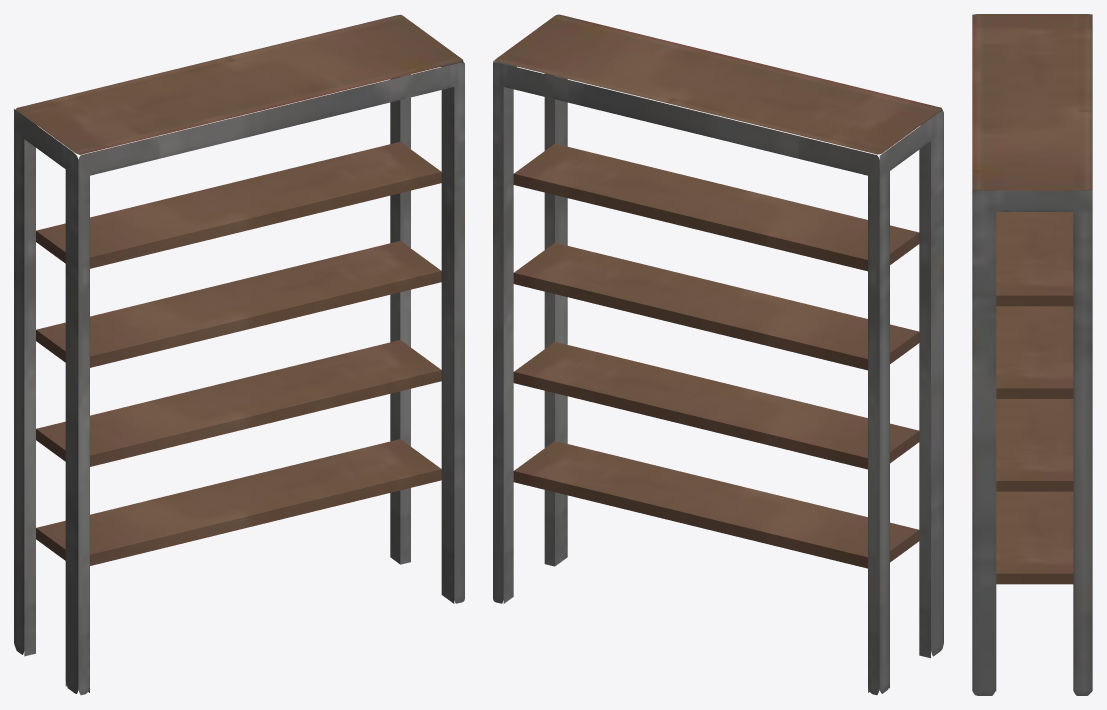
Rendered from open-shelving--2.gltf.
3 views of the same model, side by side, from view 1: azimuth 30°, elevation 25°; view 2: azimuth 150°, elevation 25°; view 3: azimuth 270°, elevation 25° (orthographic). The views are drawn at different scales.
Parts seen in each view (by area): view 1: Open_cabinet_medium1; view 2: Open_cabinet_medium1; view 3: Open_cabinet_medium1.
Part boxes in pixels (x1,y1,x2,y2): Open_cabinet_medium1: (14,15,464,695); Open_cabinet_medium1: (493,14,943,695); Open_cabinet_medium1: (972,14,1092,695).
Size of the model in its own units: 1.54 by 2.06 by 0.4447.
Materials: 1 (1 with a texture image).
